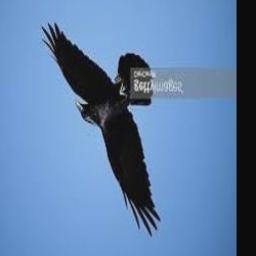Crow: (41, 22, 161, 239)
